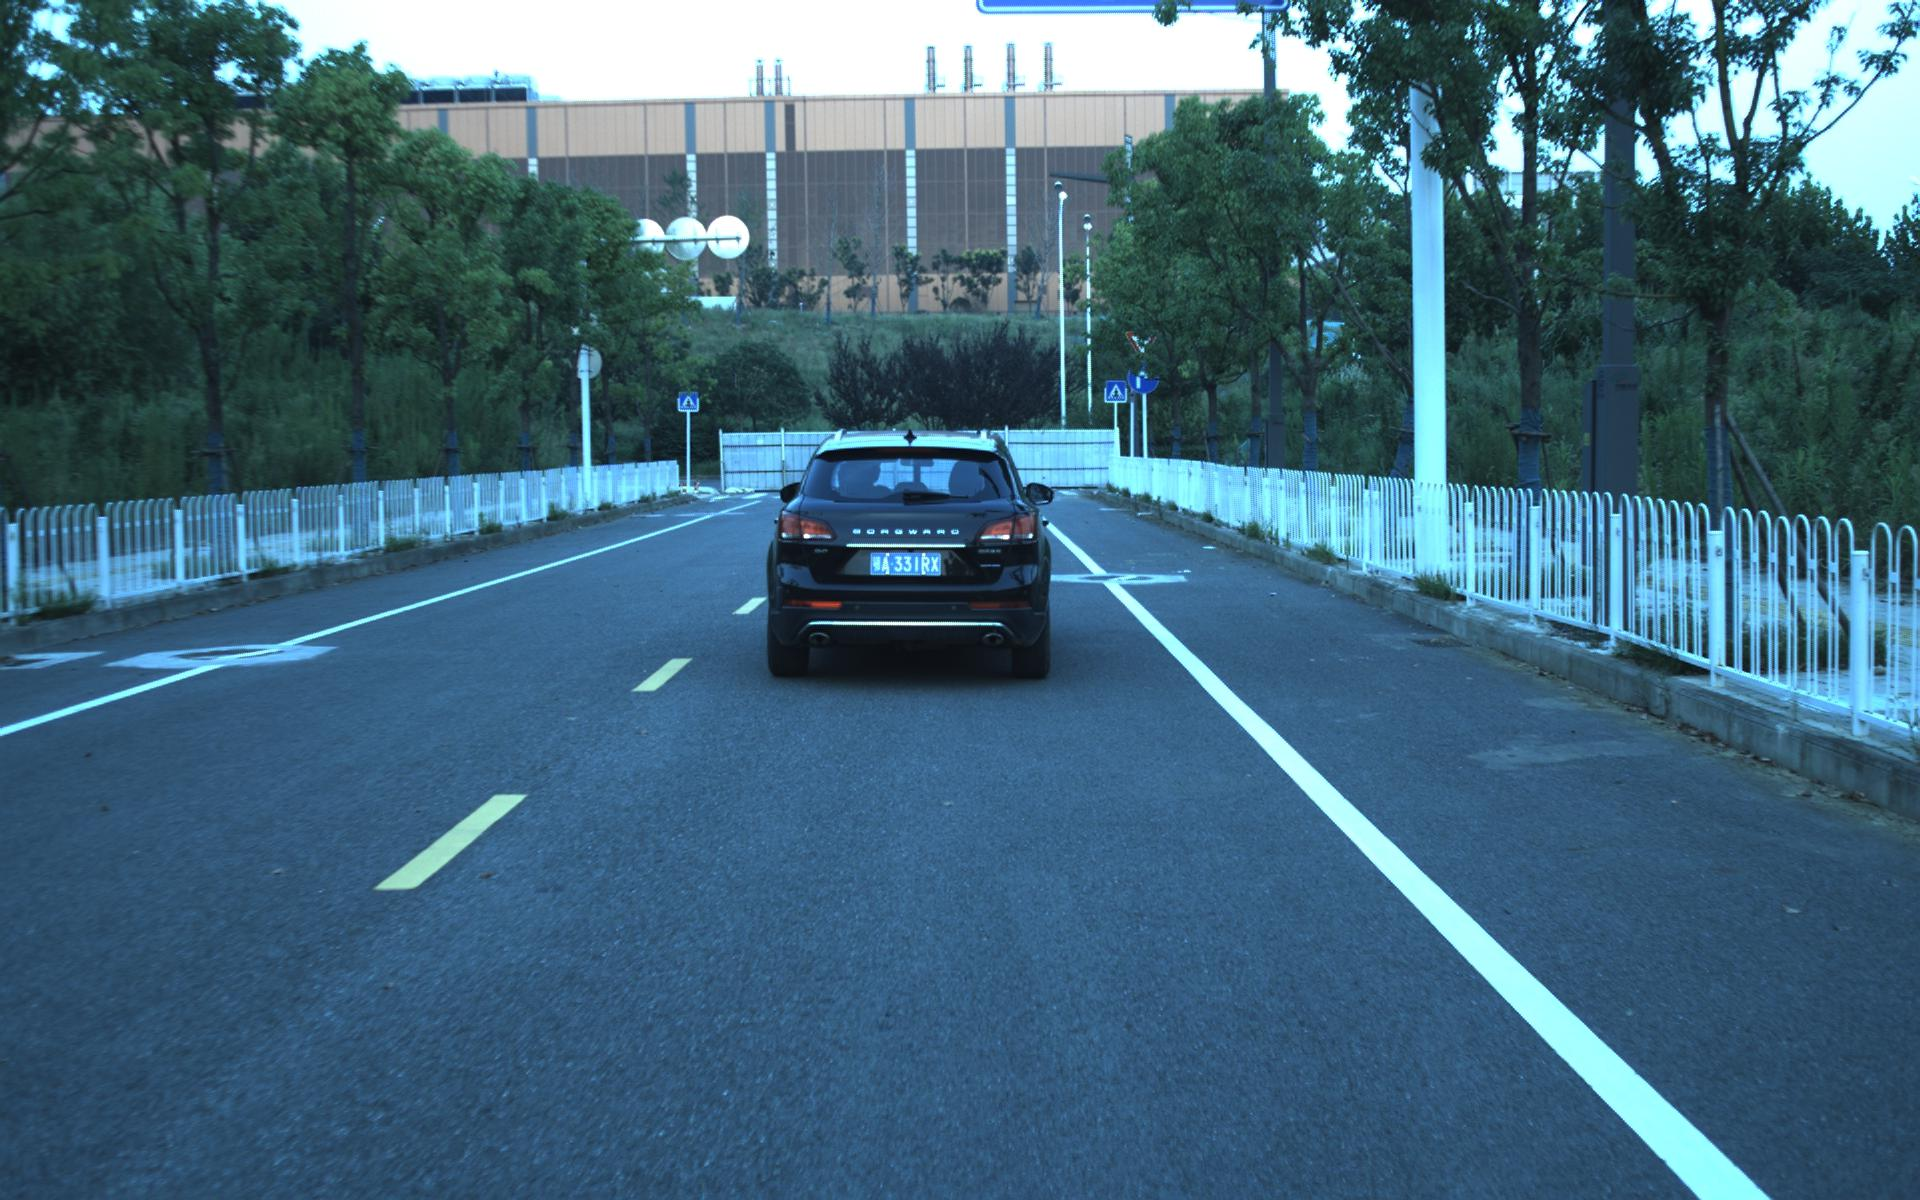Car: (763, 423, 1053, 682)
